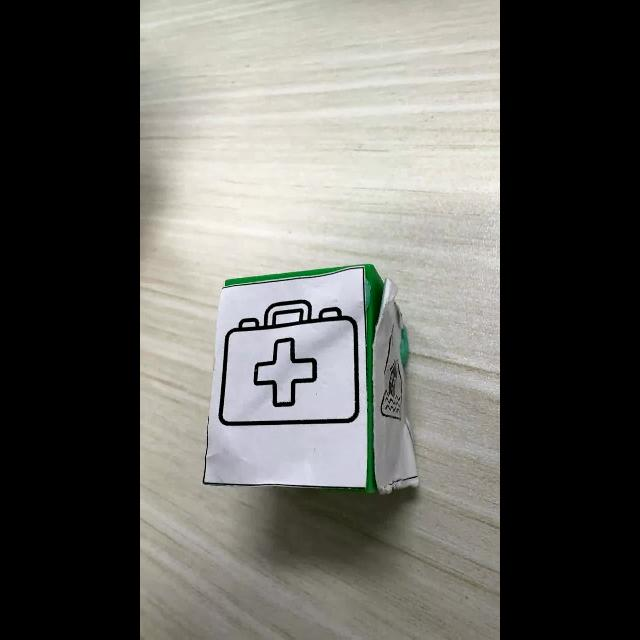Medkit: (219, 299, 359, 426)
